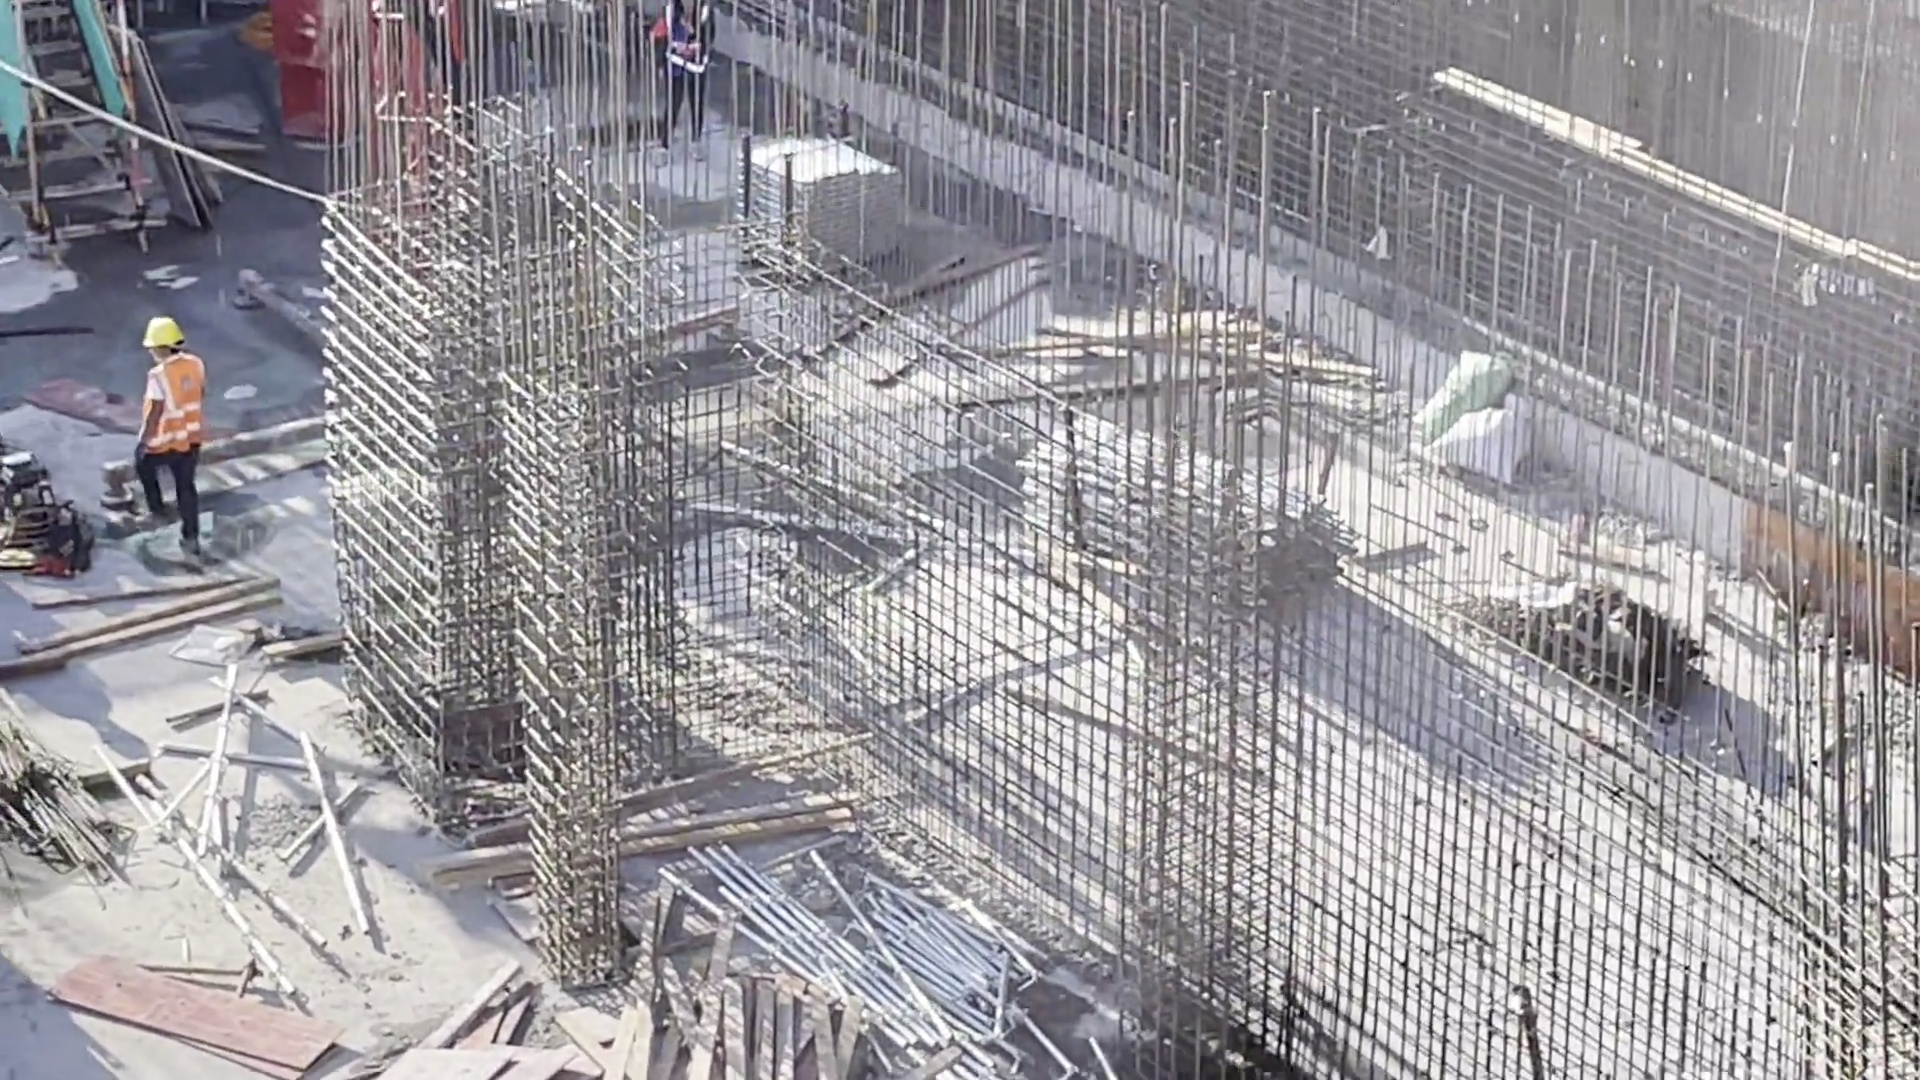helmet: (142, 313, 189, 354)
person: (138, 311, 224, 558), (645, 1, 719, 165)
rebar: (1, 668, 110, 883)
scaffold: (1037, 396, 1332, 611), (763, 881, 987, 1042), (751, 140, 889, 275)
vest: (146, 360, 200, 449), (669, 6, 711, 73)
